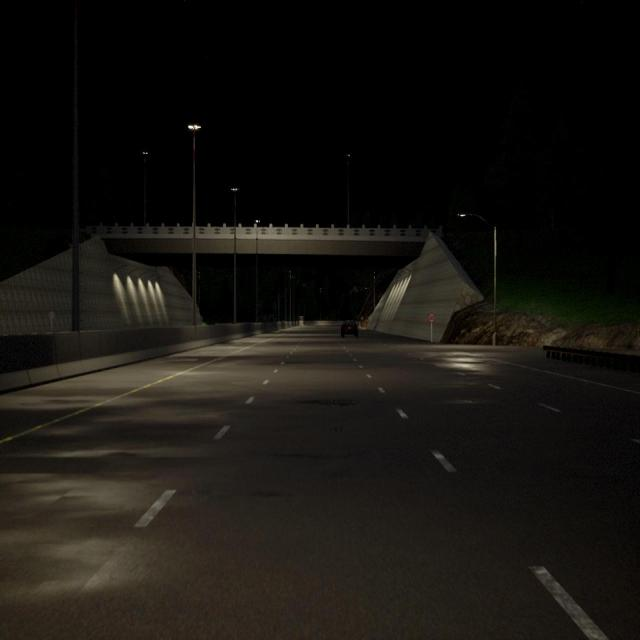Traffic_Signs: (428, 312, 435, 322), (48, 312, 55, 320)
Vehicle: (341, 320, 358, 338)
